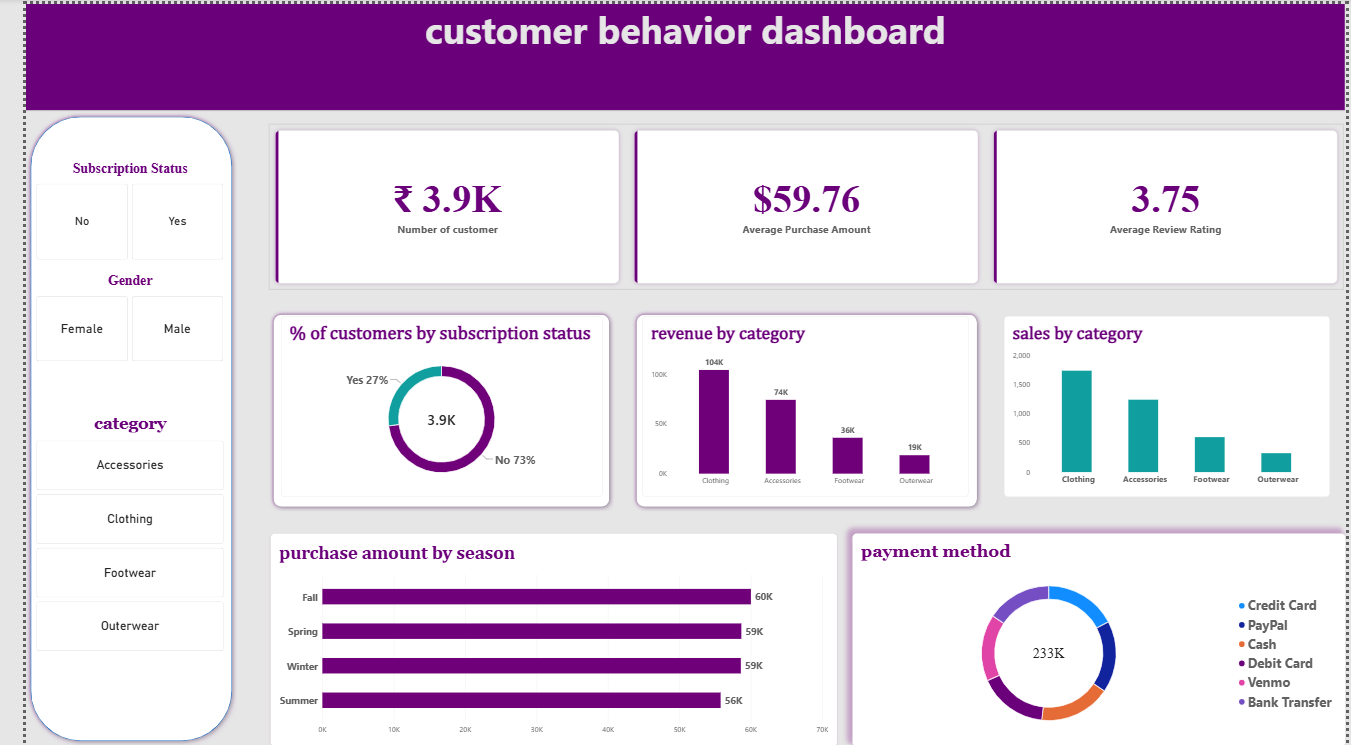

The page's visual inventory and layout, read from the dashboard file:
{"tool":"powerbi","page":{"name":"Page 1","canvas":[2560,1440],"ordinal":0},"visuals":[{"type":"cardVisual","fields":{"Data":["customer_behavior customer.Number of customer","customer_behavior customer.Average Purchase Amount","customer_behavior customer.Average Review Rating"]},"box":[472.4,233.2,2086.6,321],"z":0},{"type":"shape","box":[0,0,1919.3,152.2],"z":1000},{"type":"textbox","box":[0,0,2559,205.9],"z":2000},{"type":"shape","box":[472.4,593.6,669.3,390.7],"z":3000},{"type":"donutChart","title":"% of customers by subscription status","fields":{"Category":["customer_behavior customer.subscription_status"],"Y":["CountNonNull(customer_behavior customer.customer_id)"]},"box":[493.6,605.7,623.9,351.3],"z":4000},{"type":"shape","box":[1874.6,584.5,684.4,399.8],"z":5000},{"type":"shape","box":[1175,593.6,678.4,390.7],"z":6000},{"type":"clusteredColumnChart","title":"revenue by  category","fields":{"Category":["customer_behavior customer.category"],"Y":["Sum(customer_behavior customer.purchase_amount)"]},"box":[1196.2,605.7,632.9,351.3],"z":7000},{"type":"clusteredColumnChart","title":"sales by  category","fields":{"Category":["customer_behavior customer.category"],"Y":["Count(customer_behavior customer.customer_id)"]},"box":[1898.8,605.7,632.9,351.3],"z":8000},{"type":"shape","box":[0,209,408.8,1229.5],"z":9000},{"type":"advancedSlicerVisual","title":"Subscription Status","fields":{"Values":["customer_behavior customer.subscription_status"]},"box":[21.2,302.8,363.4,193.8],"z":10000},{"type":"advancedSlicerVisual","title":"Gender","fields":{"Values":["customer_behavior customer.gender"]},"box":[21.2,520.9,363.4,172.6],"z":11000},{"type":"advancedSlicerVisual","title":"category","fields":{"Values":["customer_behavior customer.category"]},"box":[20,793.3,363.3,463.3],"z":12000},{"type":"clusteredBarChart","title":"purchase amount by season","fields":{"Y":["Sum(customer_behavior customer.purchase_amount)"],"Category":["customer_behavior customer.season"]},"box":[473.3,1026.7,1100,413.3],"z":12001},{"type":"donutChart","title":"payment method","fields":{"Category":["customer_behavior customer.payment_method"],"Y":["Sum(customer_behavior customer.purchase_amount)"]},"box":[1603.3,1026.7,956.7,413.3],"z":12002}]}

Visuals, with their boxes in screenshot pixels (x1, y1, x2, y2), scaled from the page's 2560x1440 canvas onto the 1351x745 screenshot:
cardVisual - customer_behavior customer.Number of customer x customer_behavior customer.Average Purchase Amount: <region>249, 121, 1350, 287</region>
shape: <region>0, 0, 1013, 79</region>
textbox: <region>0, 0, 1350, 107</region>
shape: <region>249, 307, 603, 509</region>
"% of customers by subscription status" donutChart: <region>260, 313, 590, 495</region>
shape: <region>989, 302, 1350, 509</region>
shape: <region>620, 307, 978, 509</region>
"revenue by  category" clusteredColumnChart: <region>631, 313, 965, 495</region>
"sales by  category" clusteredColumnChart: <region>1002, 313, 1336, 495</region>
shape: <region>0, 108, 216, 744</region>
"Subscription Status" advancedSlicerVisual: <region>11, 157, 203, 257</region>
"Gender" advancedSlicerVisual: <region>11, 269, 203, 359</region>
"category" advancedSlicerVisual: <region>11, 410, 202, 650</region>
"purchase amount by season" clusteredBarChart: <region>250, 531, 830, 744</region>
"payment method" donutChart: <region>846, 531, 1350, 744</region>
